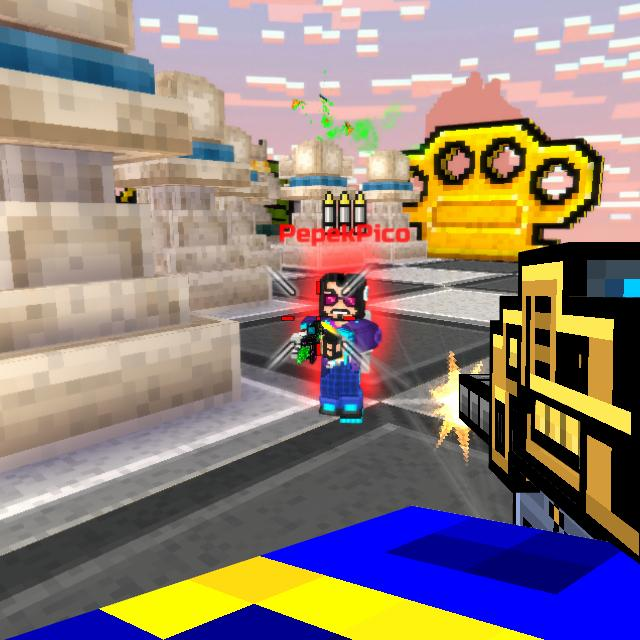Enemy: (295, 273, 383, 417)
